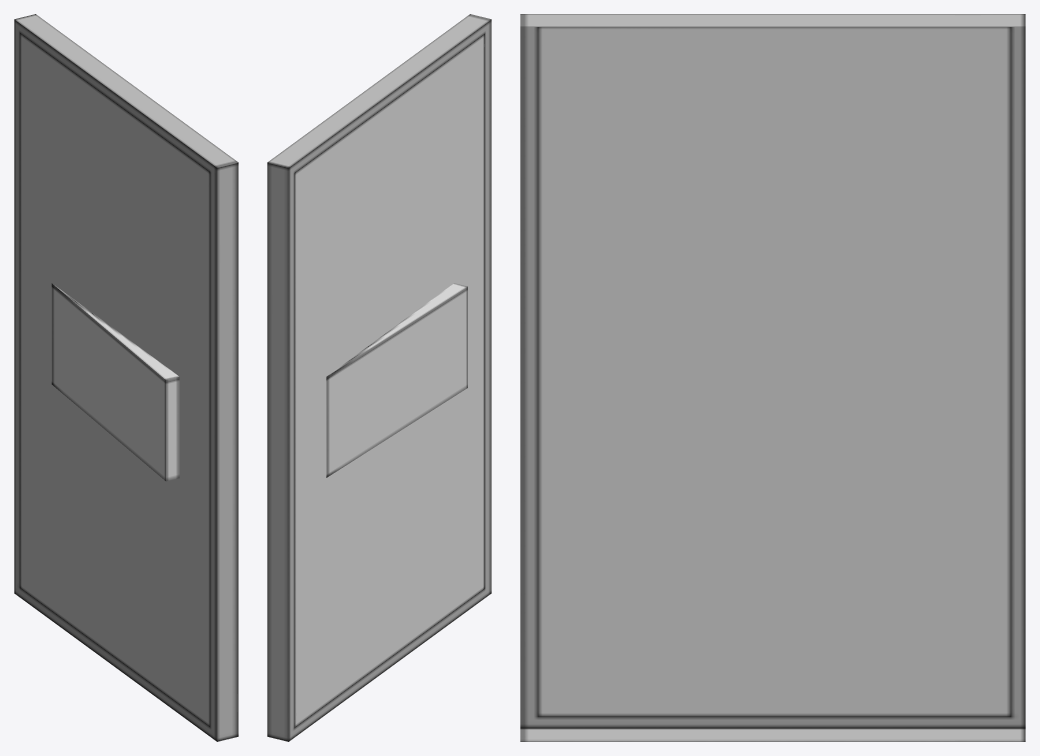
File: lightSwitch.fbx
3 views of the same model, side by side, from view 1: azimuth 30°, elevation 25°; view 2: azimuth 150°, elevation 25°; view 3: azimuth 270°, elevation 25° (orthographic). The views are drawn at different scales.
Visible parts, largest first — view 1: polySurface1086; view 2: polySurface1086; view 3: polySurface1086.
Boxes of the visible parts, <box> form: polySurface1086: <box>14,14,238,741</box>; polySurface1086: <box>267,14,491,741</box>; polySurface1086: <box>520,14,1025,741</box>.
Size of the model in its own units: 0.014 by 0.2169 by 0.139.
